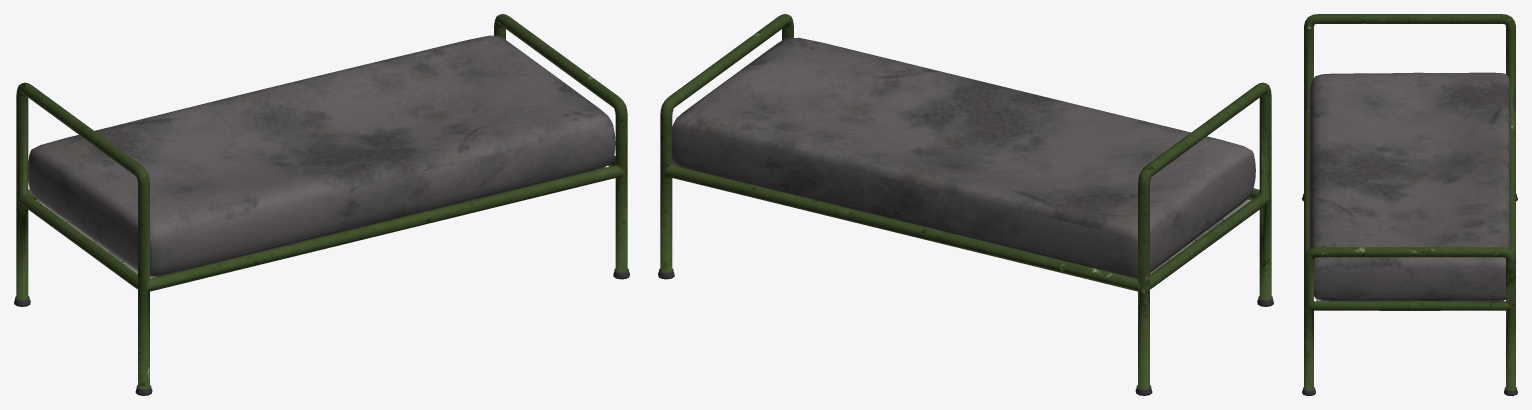
The picture shows the model from 3 angles, left to right: view 1: azimuth 30°, elevation 25°; view 2: azimuth 150°, elevation 25°; view 3: azimuth 270°, elevation 25°; orthographic projection. The views are drawn at different scales.
Visible parts, largest first — view 1: Matress, Cage; view 2: Matress, Cage; view 3: Matress, Cage.
Part boxes in pixels (x1,y1,x2,y2): Matress: (27,35,615,276); Cage: (14,14,629,395); Matress: (672,37,1255,278); Cage: (658,14,1273,395); Matress: (1309,72,1510,301); Cage: (1302,14,1517,395).
Size of the model in its own units: 1.85 by 0.8038 by 0.8486.
4 materials, 3 textured.
